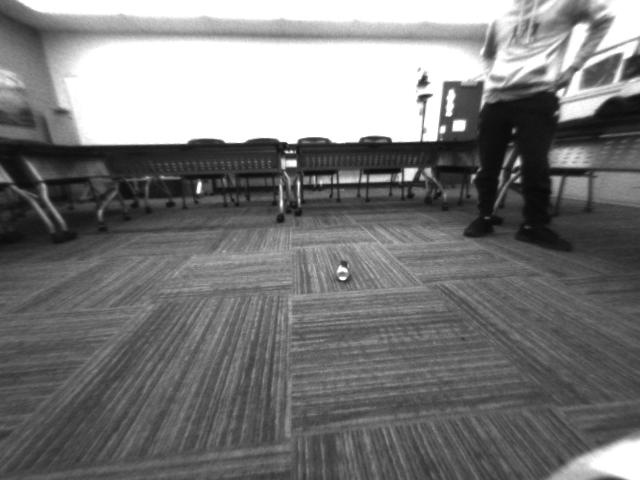can: (332, 254, 356, 287)
